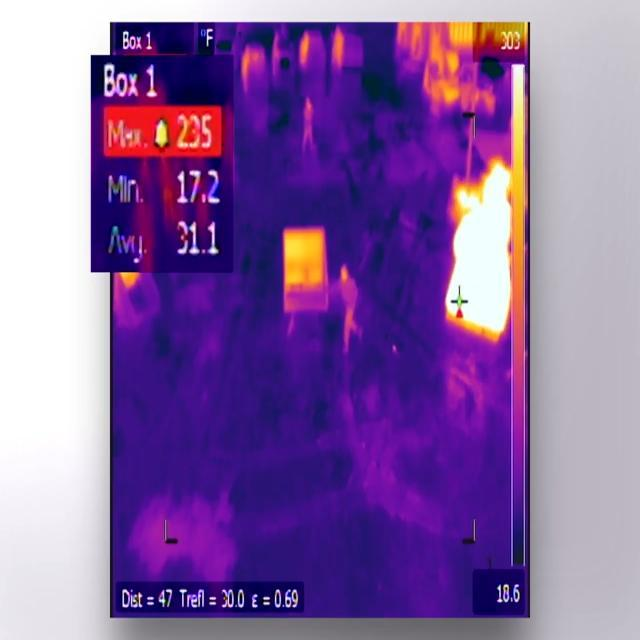fire: (442, 161, 509, 339)
